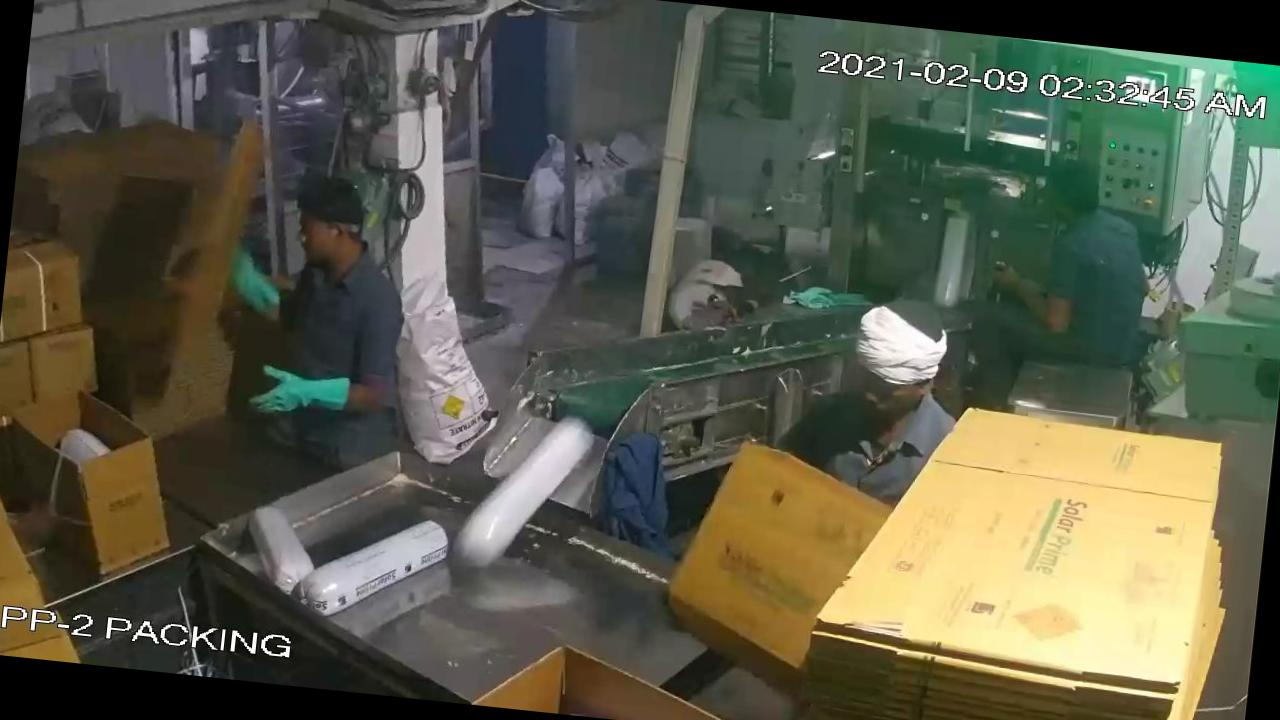Gloves: (205, 351, 383, 442), (187, 231, 321, 328)
No-gloves: (980, 255, 1086, 344)
